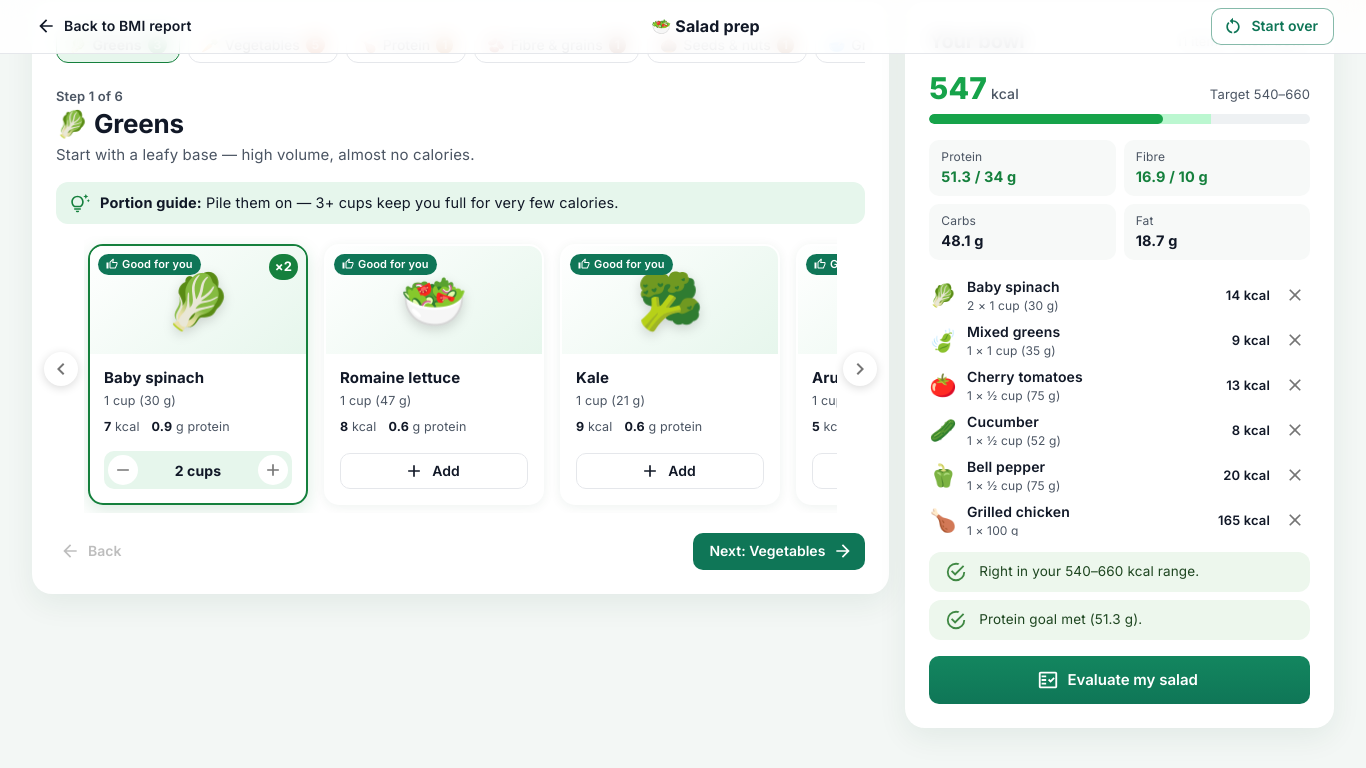
Test case: SaladBuilder › starts with an editable recommended bowl inside the meal target
(page scrolled)
expect the element with test id "bowl-kcal" shows "547": met, box [929,70,987,106]
expect the text "Grilled chicken" is shown: met, box [967,503,1070,520]
Note: Editable: adjust a default item
Click the button named "Add one more Baby spinach" at (273, 470), box [258,455,288,485]
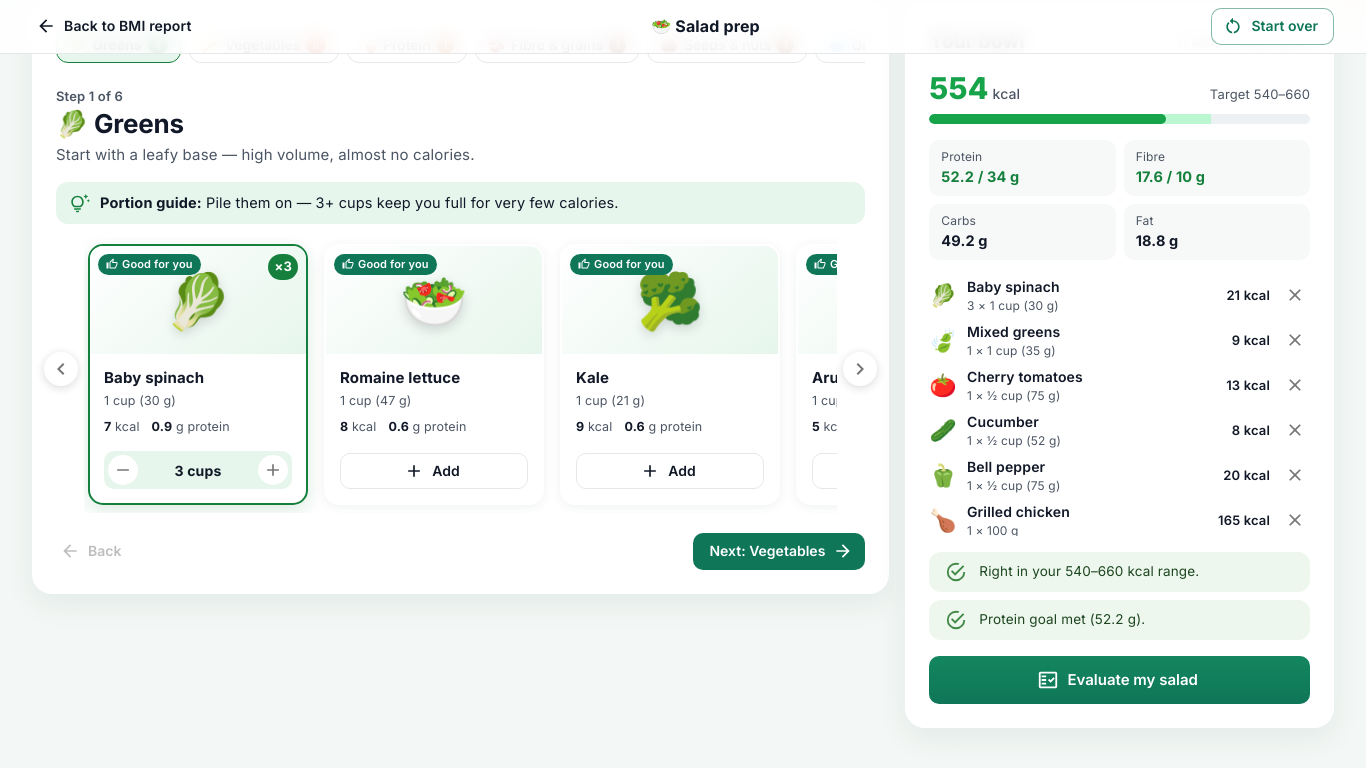
expect the element with test id "bowl-kcal" shows "554": met, box [929,70,988,106]
